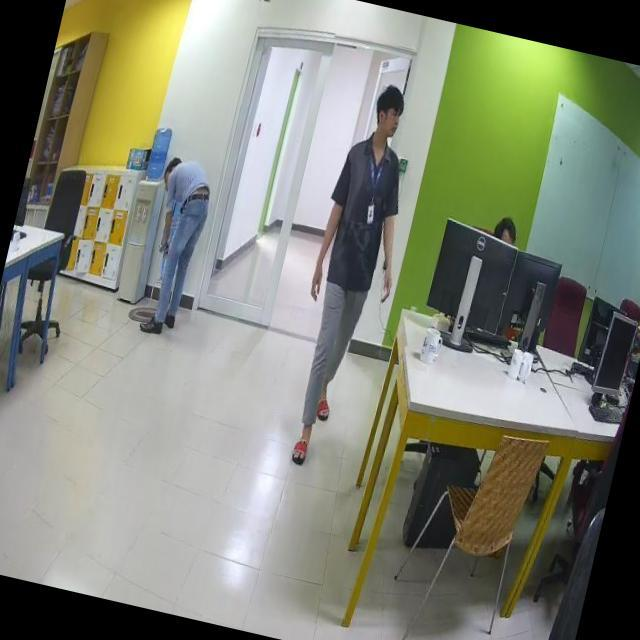person: (270, 78, 432, 476), (128, 156, 218, 344)
